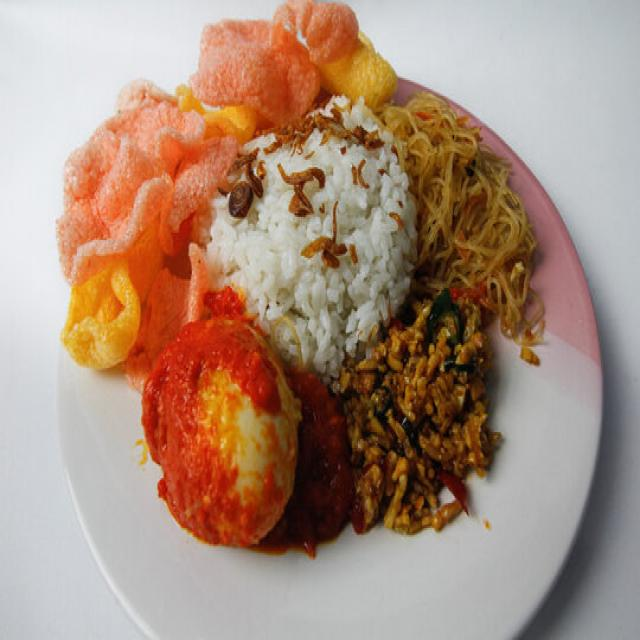nasi: (207, 97, 421, 370)
telur balado: (140, 318, 302, 553)
